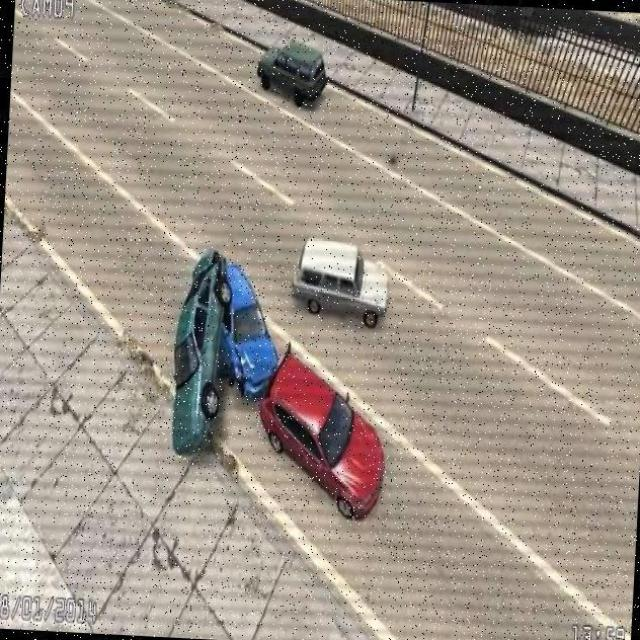accident: (209, 256, 399, 530), (168, 238, 286, 464)
